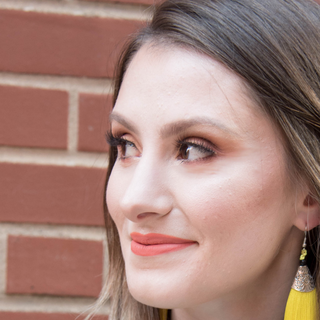eye: (168, 134, 222, 166), (109, 135, 147, 166)
